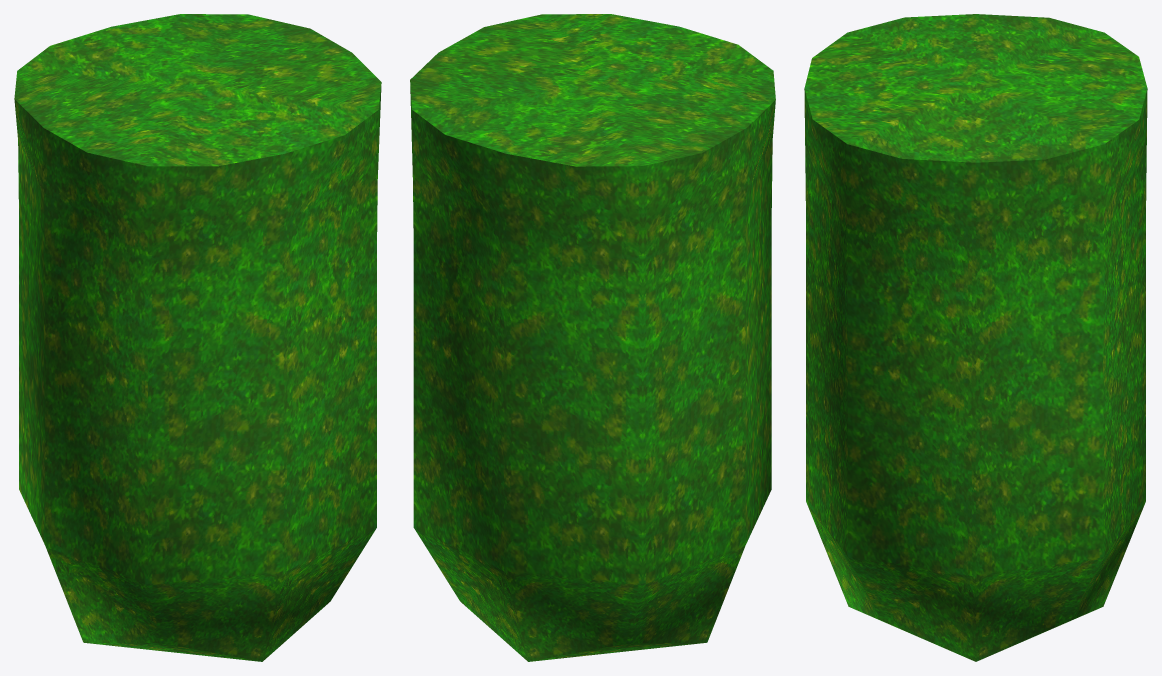
Rendered from INST_HTOWN_CLIFFPIECEB.fbx.
3 renders of one model, left to right at view 1: azimuth 30°, elevation 25°; view 2: azimuth 150°, elevation 25°; view 3: azimuth 270°, elevation 25°, orthographic.
Parts seen in each view (by area): view 1: INST_HTOWN_CLIFFPIECEB; view 2: INST_HTOWN_CLIFFPIECEB; view 3: INST_HTOWN_CLIFFPIECEB.
Boxes of the visible parts, left/top/right/bottom form: INST_HTOWN_CLIFFPIECEB: left=14, top=14, right=381, bottom=661; INST_HTOWN_CLIFFPIECEB: left=410, top=14, right=775, bottom=661; INST_HTOWN_CLIFFPIECEB: left=804, top=14, right=1147, bottom=661.
Size of the model in its own units: 26518 by 46427 by 25846.
Materials: 1 (1 with a texture image).
